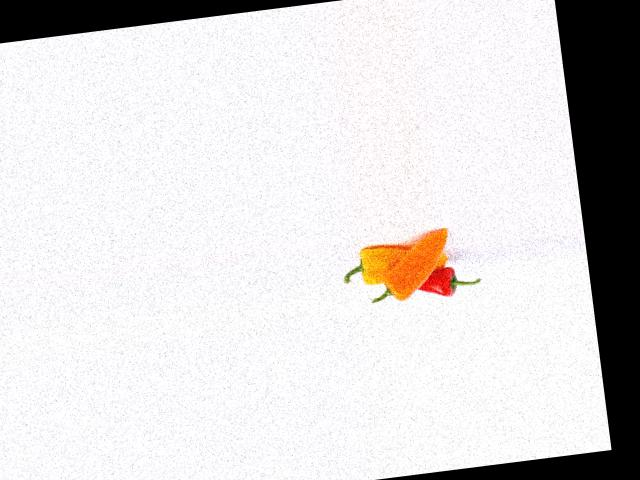bell_pepper: (336, 233, 423, 293)
